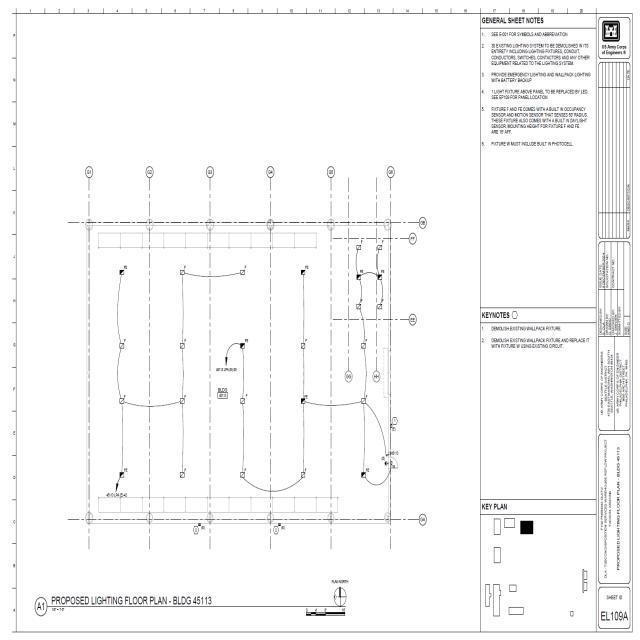Emergency Light: (290, 370, 310, 426), (230, 464, 260, 498), (283, 463, 314, 485), (346, 264, 370, 289), (235, 388, 253, 419), (358, 394, 381, 418), (174, 395, 194, 420), (295, 261, 312, 289), (113, 332, 133, 355), (174, 317, 186, 354), (118, 387, 131, 420), (116, 460, 133, 485), (193, 520, 213, 541), (175, 262, 191, 288), (292, 337, 312, 357), (373, 265, 389, 290), (354, 462, 372, 483), (113, 259, 129, 282), (237, 331, 250, 359), (237, 262, 252, 283), (372, 239, 392, 254), (376, 299, 389, 320), (351, 302, 370, 315), (358, 335, 369, 356), (356, 239, 366, 258), (178, 468, 188, 481), (275, 522, 285, 534), (388, 421, 396, 430)
